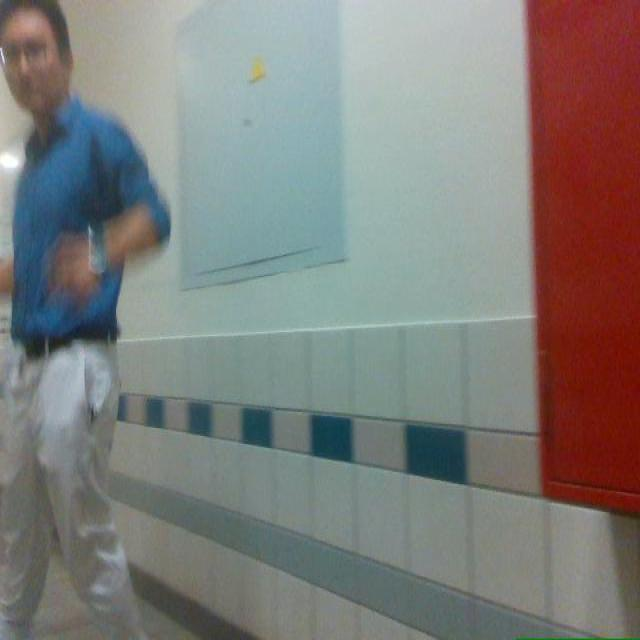humans: (0, 0, 169, 639)
